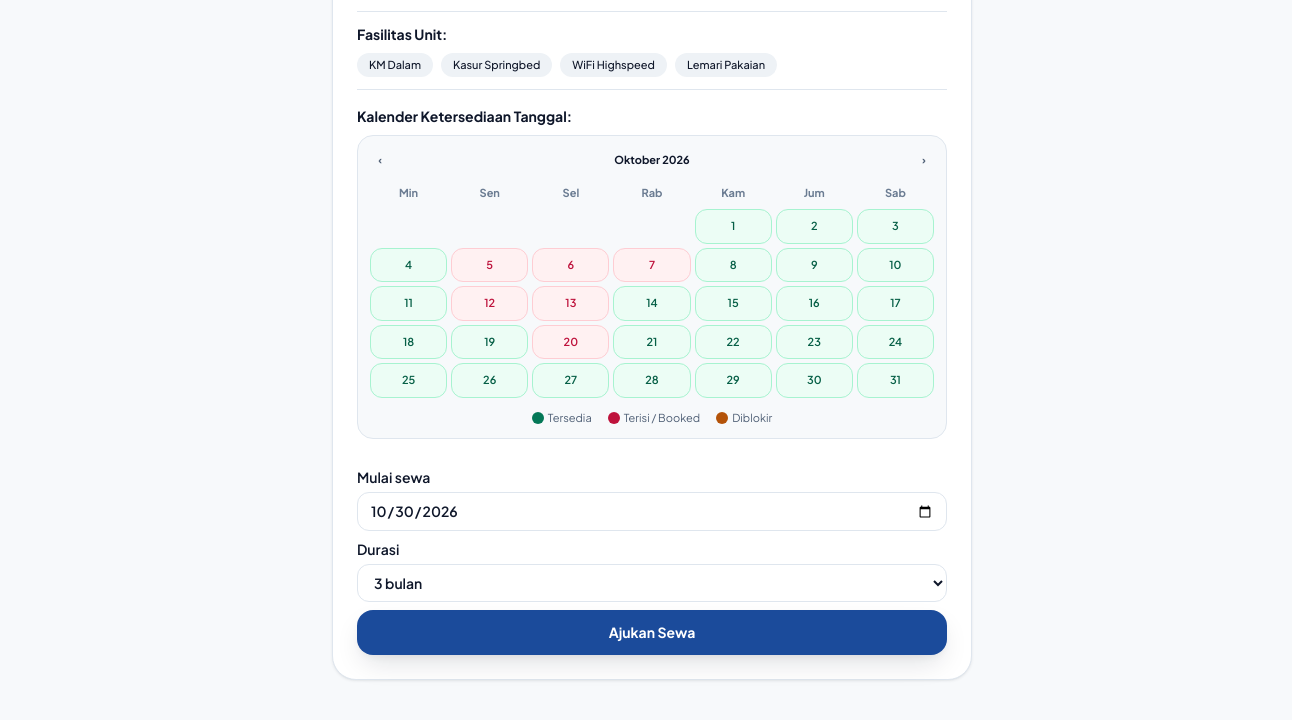
Scenario: UnitDetailPage › mengirim pengajuan: gagal sekali, lalu berhasil dan kembali
(page scrolled)
Type "2030-01-01" into the date field labelled "Mulai sewa". click: (652, 512)
box: [357, 492, 947, 531]
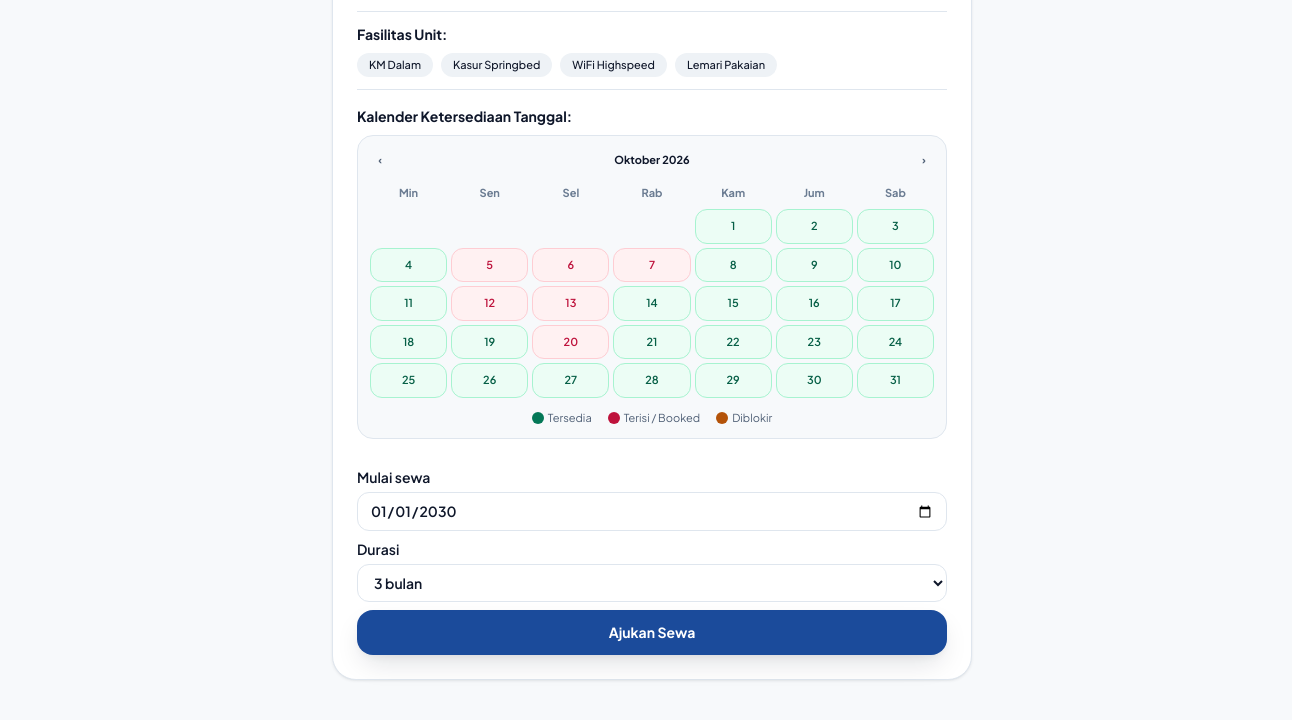
Click the button "Ajukan Sewa". click: (652, 632)
box: [357, 610, 947, 655]
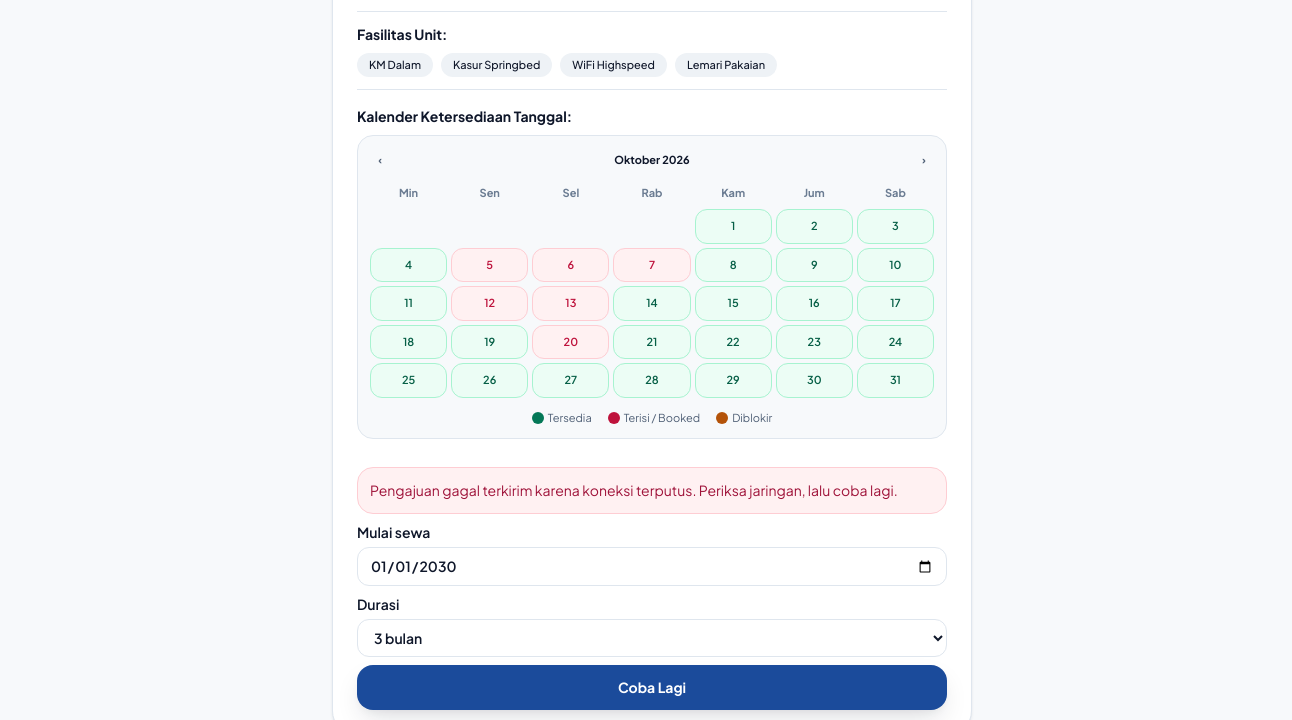
Expected: the message shows "koneksi terputus", [370, 481, 898, 499]
Click the button "Coba Lagi". click: (652, 688)
box: [357, 665, 947, 710]
(page scrolled)
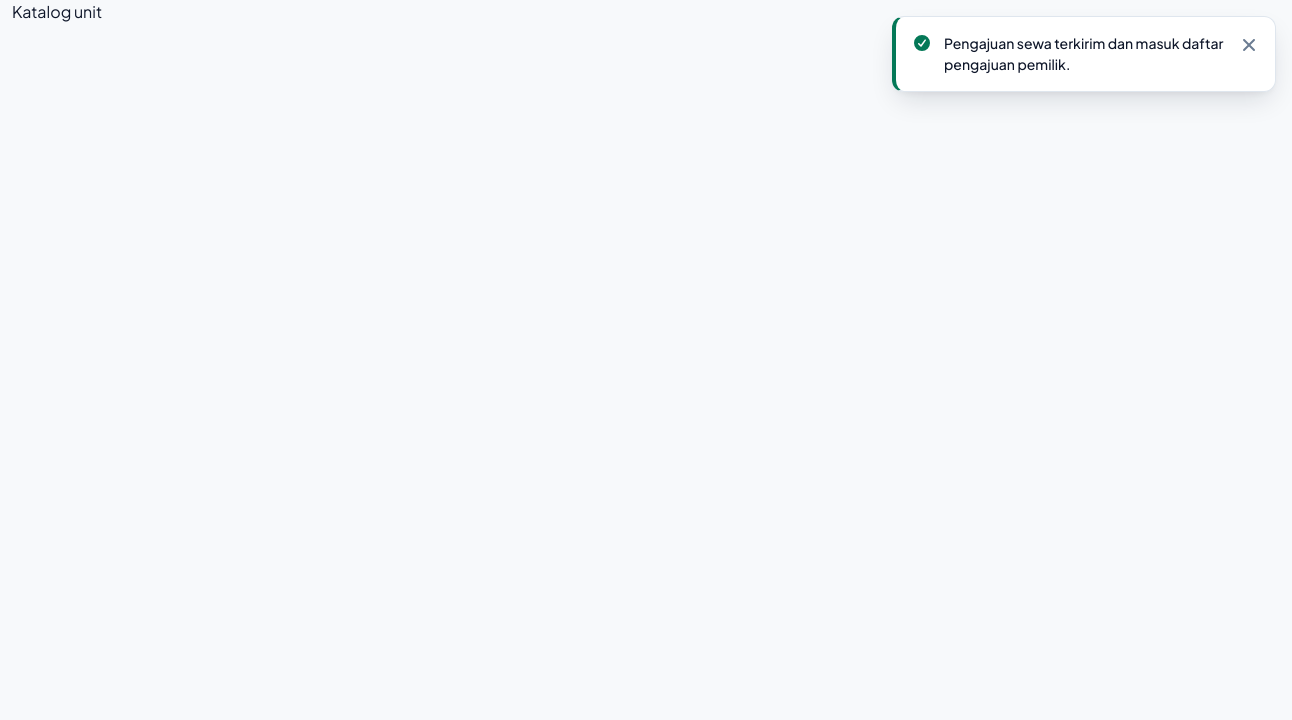
Expected: the text "Katalog unit" is shown, [12, 1, 102, 22]
Expected: the text "Pengajuan sewa terkirim dan masuk daftar pengajuan pemilik." is shown, [944, 33, 1227, 75]
